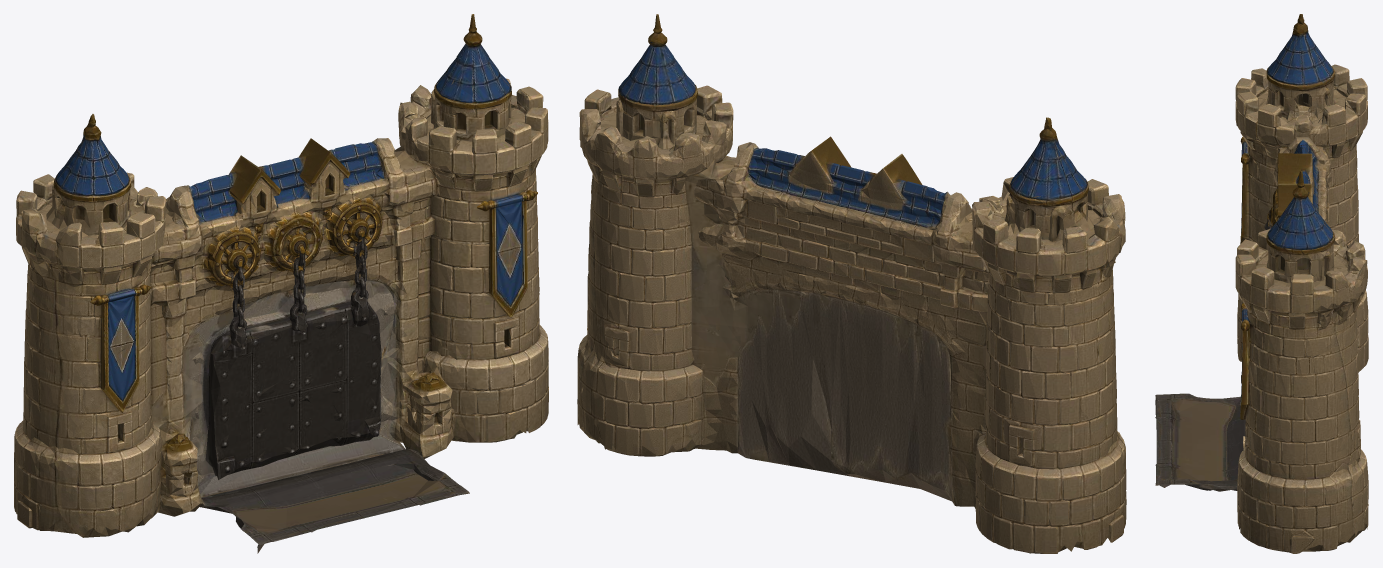
The model's file is capital-siege-gate-v1.glb.
3 views of the same model, side by side, from view 1: azimuth 30°, elevation 25°; view 2: azimuth 150°, elevation 25°; view 3: azimuth 270°, elevation 25° (orthographic). The views are drawn at different scales.
Visible parts, largest first — view 1: model_part17, model_part15, model_part13, model_part16, model_part9, model_part12, model_part11, model_part1, model_part10, model_part0, model_part14, model_part8 (+1 smaller); view 2: model_part16, model_part14, model_part6, model_part17, model_part12, model_part15; view 3: model_part17, model_part15, model_part16, model_part9, model_part14, model_part12.
Boxes of the visible parts, x1=… form: model_part17: x1=149, y1=14, x2=548, y2=458; model_part15: x1=35, y1=114, x2=202, y2=537; model_part13: x1=191, y1=280, x2=394, y2=479; model_part16: x1=14, y1=127, x2=225, y2=533; model_part9: x1=198, y1=433, x2=469, y2=553; model_part12: x1=189, y1=138, x2=383, y2=240; model_part11: x1=325, y1=197, x2=382, y2=255; model_part1: x1=402, y1=372, x2=452, y2=436; model_part10: x1=203, y1=227, x2=260, y2=286; model_part0: x1=277, y1=231, x2=311, y2=334; model_part14: x1=372, y1=89, x2=427, y2=178; model_part8: x1=348, y1=232, x2=370, y2=329; model_part16: x1=685, y1=129, x2=1126, y2=553; model_part14: x1=581, y1=133, x2=759, y2=456; model_part6: x1=737, y1=289, x2=954, y2=505; model_part17: x1=577, y1=14, x2=735, y2=449; model_part12: x1=748, y1=136, x2=946, y2=229; model_part15: x1=935, y1=117, x2=1126, y2=469; model_part17: x1=1235, y1=148, x2=1365, y2=553; model_part15: x1=1235, y1=14, x2=1330, y2=361; model_part16: x1=1241, y1=22, x2=1368, y2=383; model_part9: x1=1155, y1=393, x2=1245, y2=491; model_part14: x1=1332, y1=244, x2=1368, y2=537; model_part12: x1=1276, y1=140, x2=1320, y2=219.
Bounding box in the file's own units: 13.09 × 10 × 5.3.
18 materials, 18 textured.
